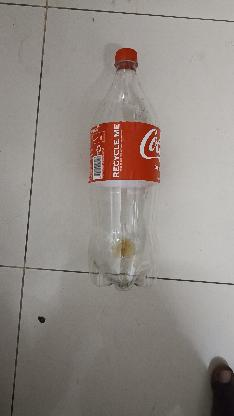Plastic Bottle: (88, 47, 160, 288)
